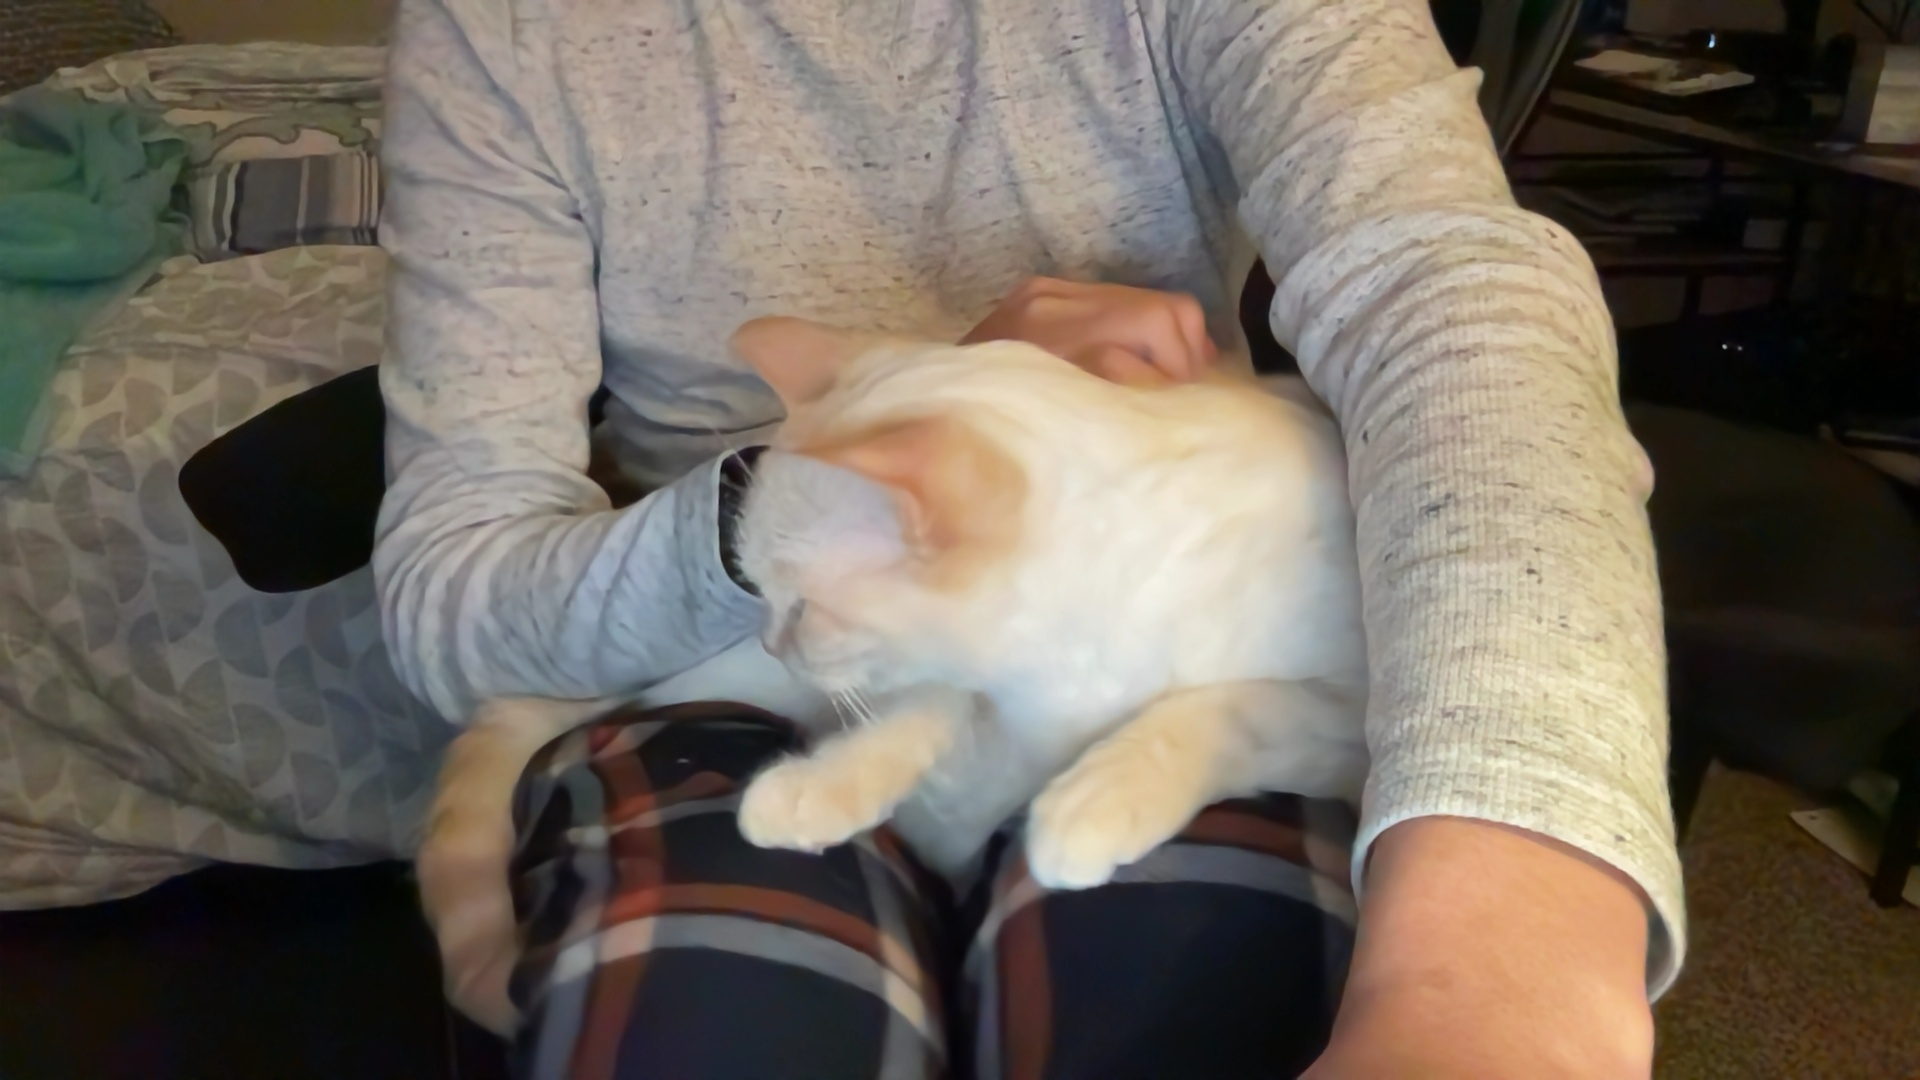cat: (738, 313, 1391, 882)
